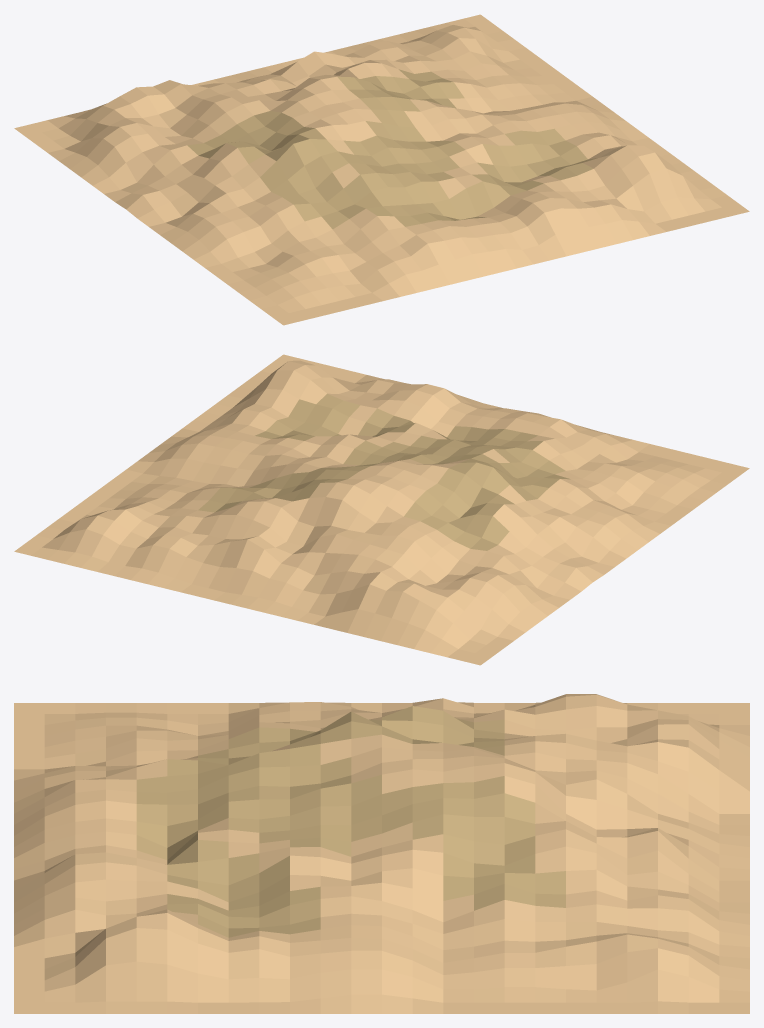
The model's file is Large_Land_004.fbx.
3 views of the same model, one above another, from view 1: azimuth 30°, elevation 25°; view 2: azimuth 150°, elevation 25°; view 3: azimuth 270°, elevation 25° (orthographic). The views are drawn at different scales.
Parts seen in each view (by area): view 1: Large_Land.004; view 2: Large_Land.004; view 3: Large_Land.004.
Boxes of the visible parts, x1,y1,x2,y2 form: Large_Land.004: (14, 14, 749, 325); Large_Land.004: (14, 354, 749, 665); Large_Land.004: (14, 694, 749, 1013).
Bounding box in the file's own units: 16000 × 2019 × 16000.
